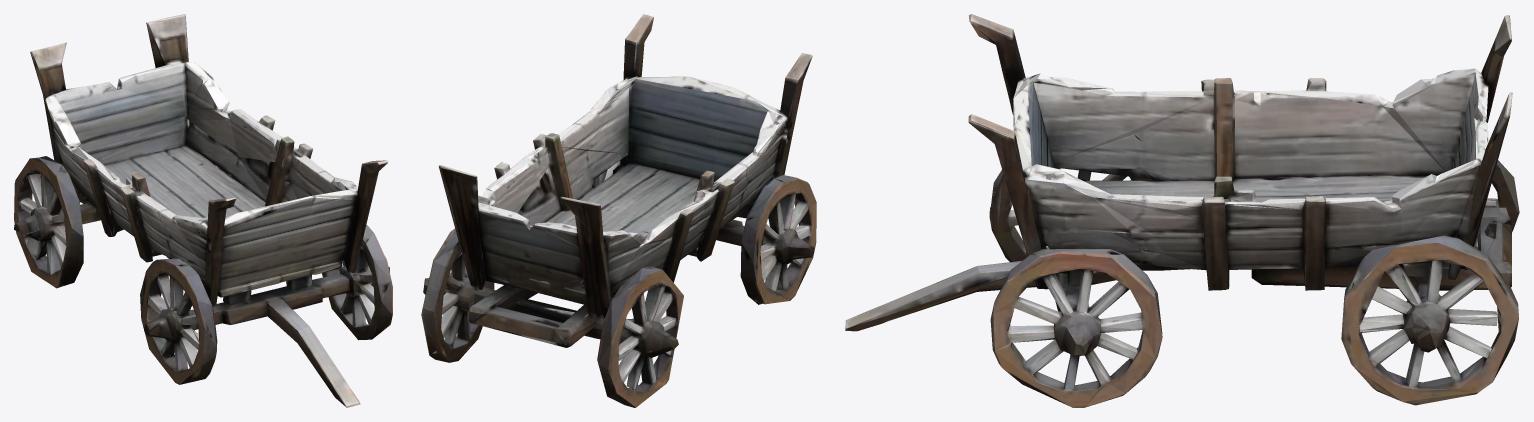
Rendered from combat_broken_cart_01.glb.
3 renders of one model, left to right at view 1: azimuth 30°, elevation 25°; view 2: azimuth 150°, elevation 25°; view 3: azimuth 270°, elevation 25°, orthographic. The views are drawn at different scales.
Parts seen in each view (by area): view 1: geometry_0; view 2: geometry_0; view 3: geometry_0.
Part boxes in pixels (x1=…): geometry_0: x1=14, y1=14, x2=392, y2=407; geometry_0: x1=421, y1=14, x2=816, y2=407; geometry_0: x1=845, y1=14, x2=1519, y2=407.
Size of the model in its own units: 0.5606 by 0.458 by 0.9982.
Materials: 1 (1 with a texture image).
